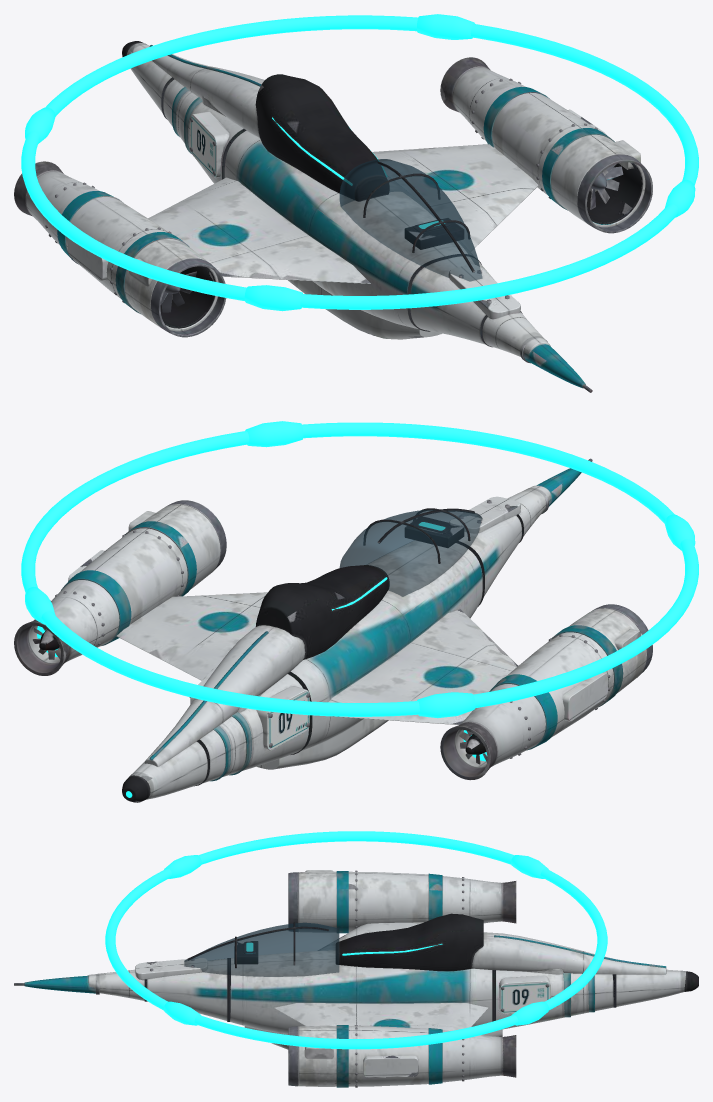
The model's file is vesper.glb.
3 views of the same model, one above another, from view 1: azimuth 30°, elevation 25°; view 2: azimuth 150°, elevation 25°; view 3: azimuth 270°, elevation 25° (orthographic). The views are drawn at different scales.
Parts seen in each view (by area): view 1: vesper_body, spin_ring, canopy, fan_L; view 2: vesper_body, spin_ring, canopy; view 3: vesper_body, spin_ring, canopy.
Part boxes in pixels (<box>): vesper_body: <box>14,41,652,392</box>; spin_ring: <box>21,14,698,311</box>; canopy: <box>339,159,482,281</box>; fan_L: <box>590,164,623,209</box>; vesper_body: <box>14,458,652,802</box>; spin_ring: <box>21,421,698,718</box>; canopy: <box>339,509,482,596</box>; vesper_body: <box>14,870,698,1087</box>; spin_ring: <box>105,831,607,1049</box>; canopy: <box>184,922,339,976</box>.
Size of the model in its own units: 2.92 by 0.8078 by 3.98.
5 materials, 2 textured.
